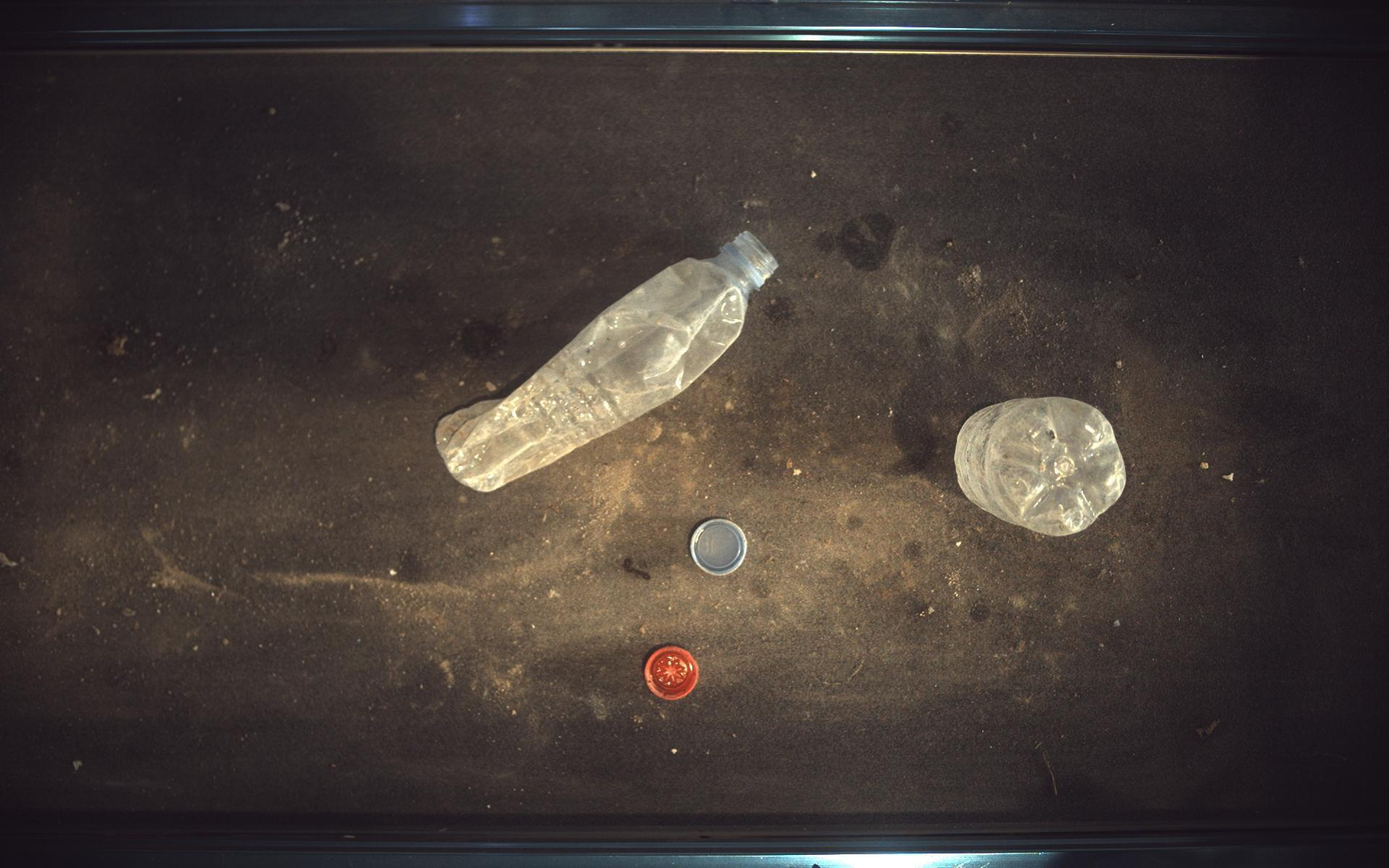general_w: (436, 230, 778, 492), (956, 397, 1127, 537), (691, 519, 749, 576), (645, 647, 700, 702)
